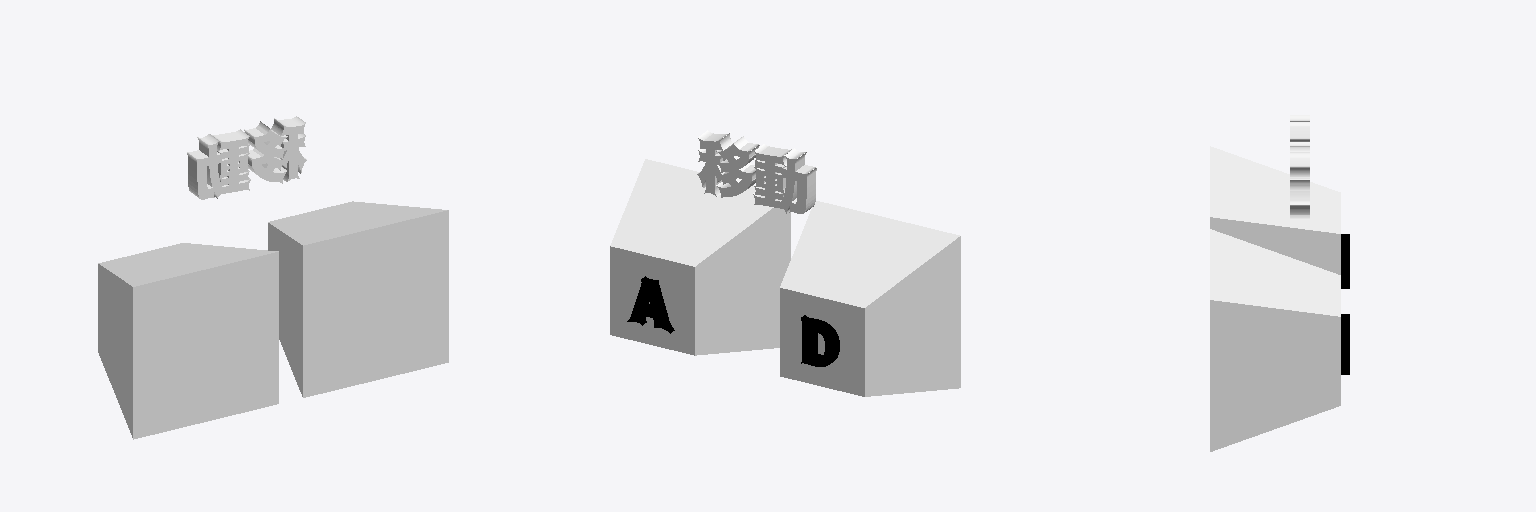
The picture shows the model from 3 angles: view 1: azimuth 30°, elevation 25°; view 2: azimuth 150°, elevation 25°; view 3: azimuth 270°, elevation 25°; orthographic projection.
Parts seen in each view (by area): view 1: 立方体; view 2: 立方体; view 3: 立方体.
Part boxes in pixels (x1,y1,x2,y2): 立方体: (98, 116, 448, 439); 立方体: (610, 130, 960, 396); 立方体: (1210, 115, 1349, 451).
Size of the model in its own units: 3.72 by 2.69 by 1.43.
Materials: 1 (1 with a texture image).